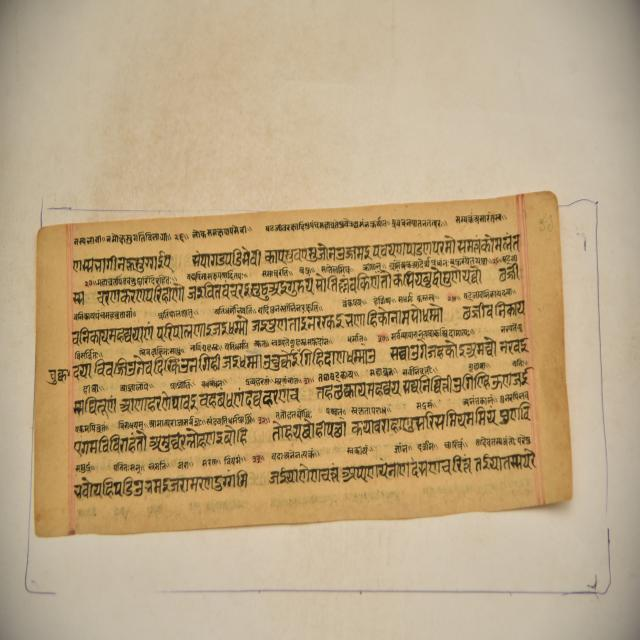text_paragraph: (33, 189, 572, 536)
